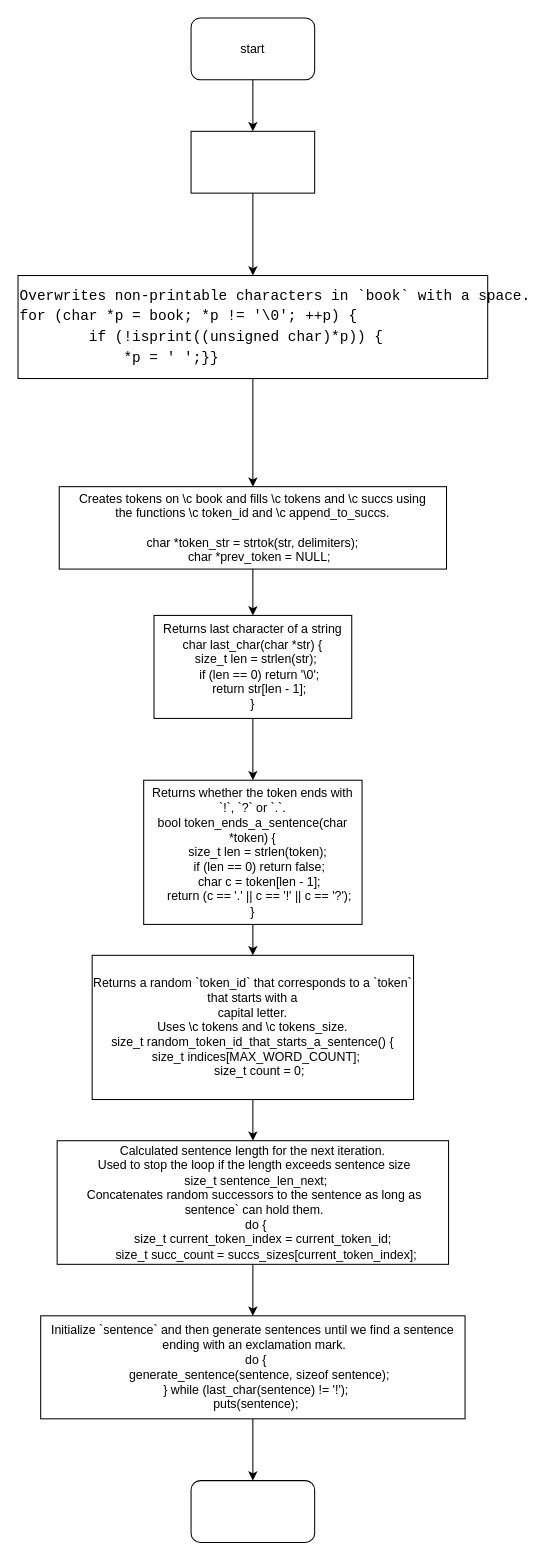
Some shapes in this 549 by 1560 pixel diagram are drawn without their labels. Each missing label, with the centre of its shape:
embed book and store as string: the point at 252,161
end: the point at 252,1511
